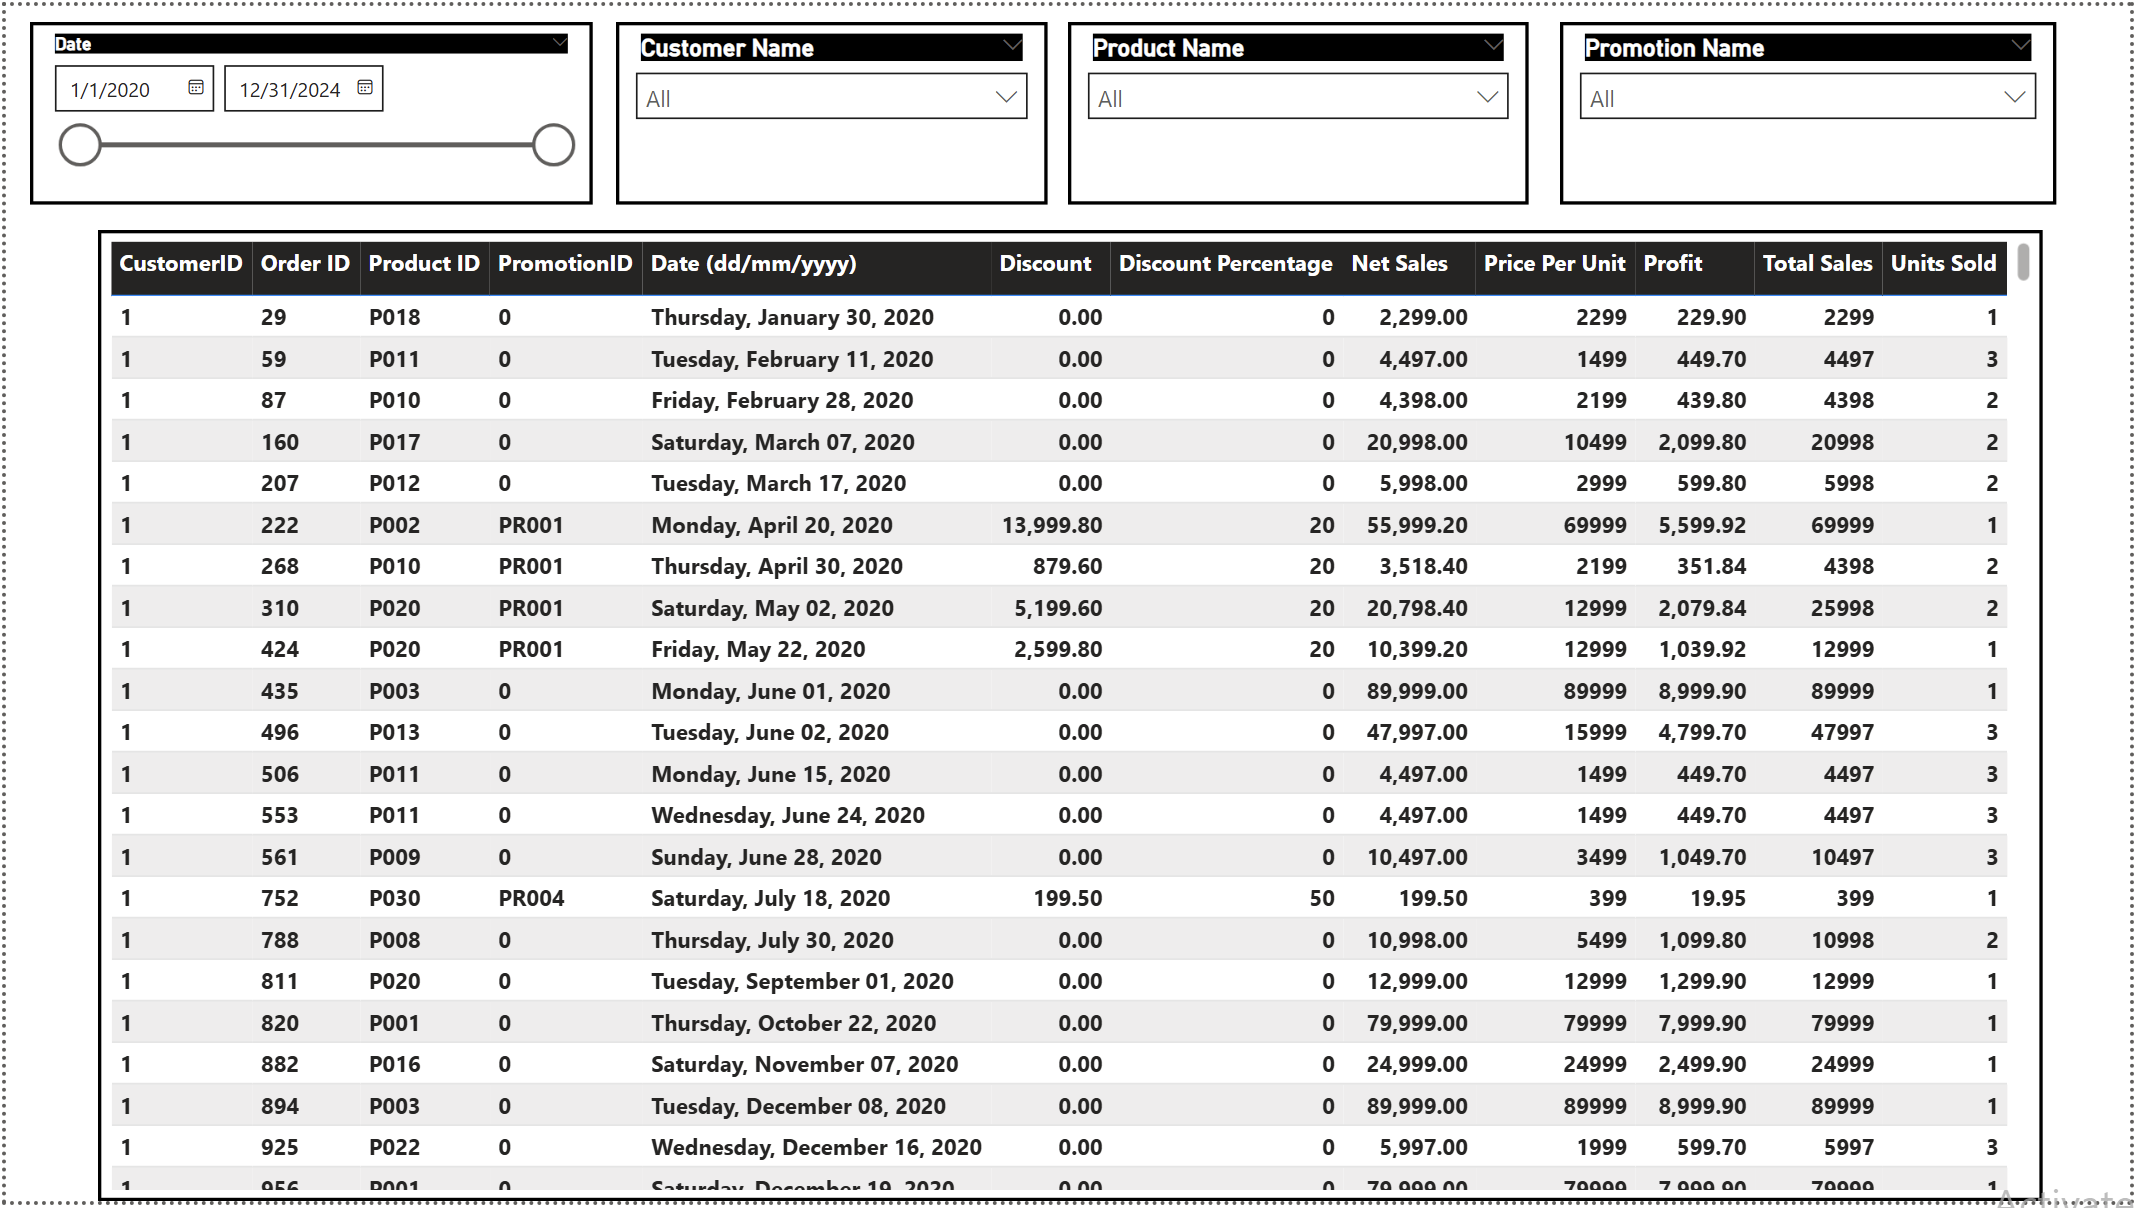

Layout of this report page (visuals, bound fields, positions):
{"tool":"powerbi","page":{"name":"Table Visual","canvas":[1280,720],"ordinal":3},"visuals":[{"type":"tableEx","fields":{"Values":["Fact Table.CustomerID","Fact Table.Order ID","Fact Table.Product ID","Fact Table.PromotionID","Fact Table.Date (dd/mm/yyyy)","Fact Table.Discount Value","Fact Table.Discount Percentage","Fact Table.Net Sales","Fact Table.Price Per Unit","Fact Table.Profit","Fact Table.Total Sales  ","Fact Table.Units Sold"]},"box":[55,135,1171.2,585],"z":0},{"type":"slicer","fields":{"Values":["Date Table 1.Date"]},"box":[15,10,338.8,110],"z":1},{"type":"slicer","fields":{"Values":["Dim Customers.Customer Name"]},"box":[367.5,10,260,110],"z":2},{"type":"slicer","fields":{"Values":["Dim Product.Product Name"]},"box":[640,10,277.5,110],"z":3},{"type":"slicer","fields":{"Values":["Dim Promotion.Promotion Name"]},"box":[936.2,10,298.8,110],"z":4}]}

Visuals, with their boxes in screenshot pixels (x1, y1, x2, y2), scaled from the page's 1280x720 canvas onto the 2134x1208 screenshot:
tableEx - Fact Table.CustomerID x Fact Table.Order ID: box(92, 226, 2044, 1207)
slicer - Date Table 1.Date: box(25, 17, 590, 201)
slicer - Dim Customers.Customer Name: box(613, 17, 1046, 201)
slicer - Dim Product.Product Name: box(1067, 17, 1530, 201)
slicer - Dim Promotion.Promotion Name: box(1561, 17, 2059, 201)
